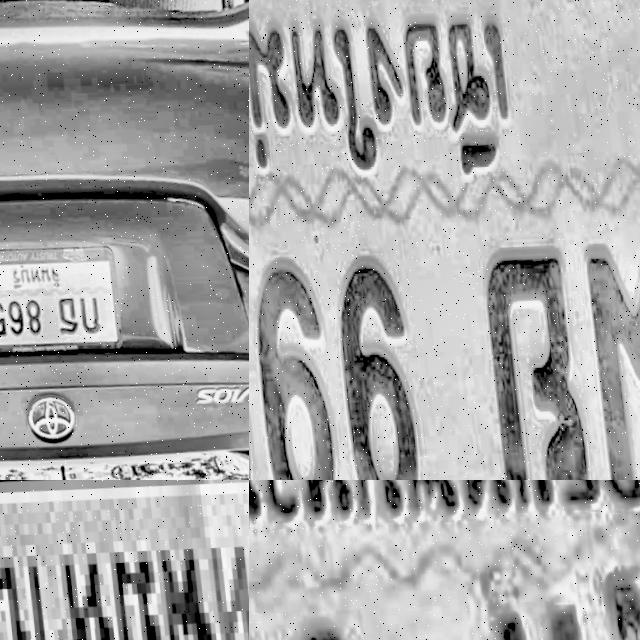license-plate: (249, 0, 640, 480), (249, 480, 640, 640), (0, 480, 249, 640), (0, 234, 121, 364)
